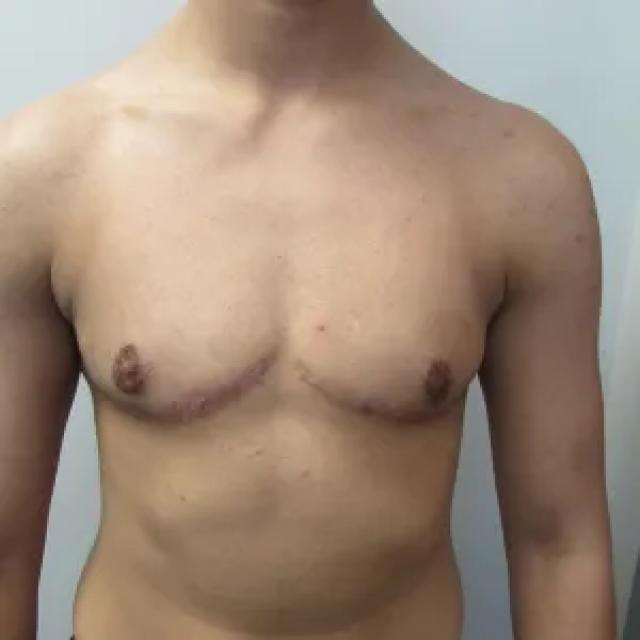Seno herido: (62, 198, 284, 454), (288, 198, 506, 454)
